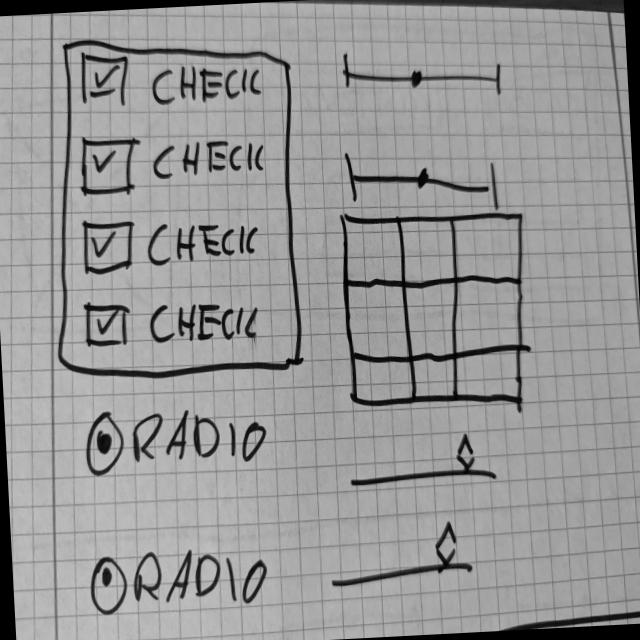checkbox: (80, 126, 271, 200), (83, 211, 264, 282), (80, 46, 267, 113), (84, 293, 265, 355)
container: (41, 26, 308, 388)
number-input: (327, 517, 477, 592), (348, 431, 501, 493)
radio: (84, 402, 273, 482), (88, 544, 275, 621)
slider: (344, 145, 505, 218), (342, 42, 508, 105)
table: (337, 206, 537, 422)
